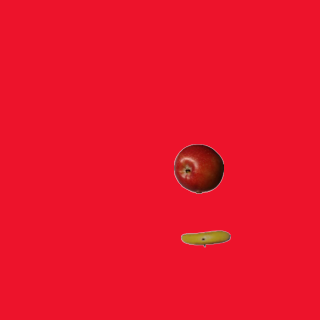Apple Braeburn: (173, 143, 223, 193)
Banana: (180, 213, 230, 263)
